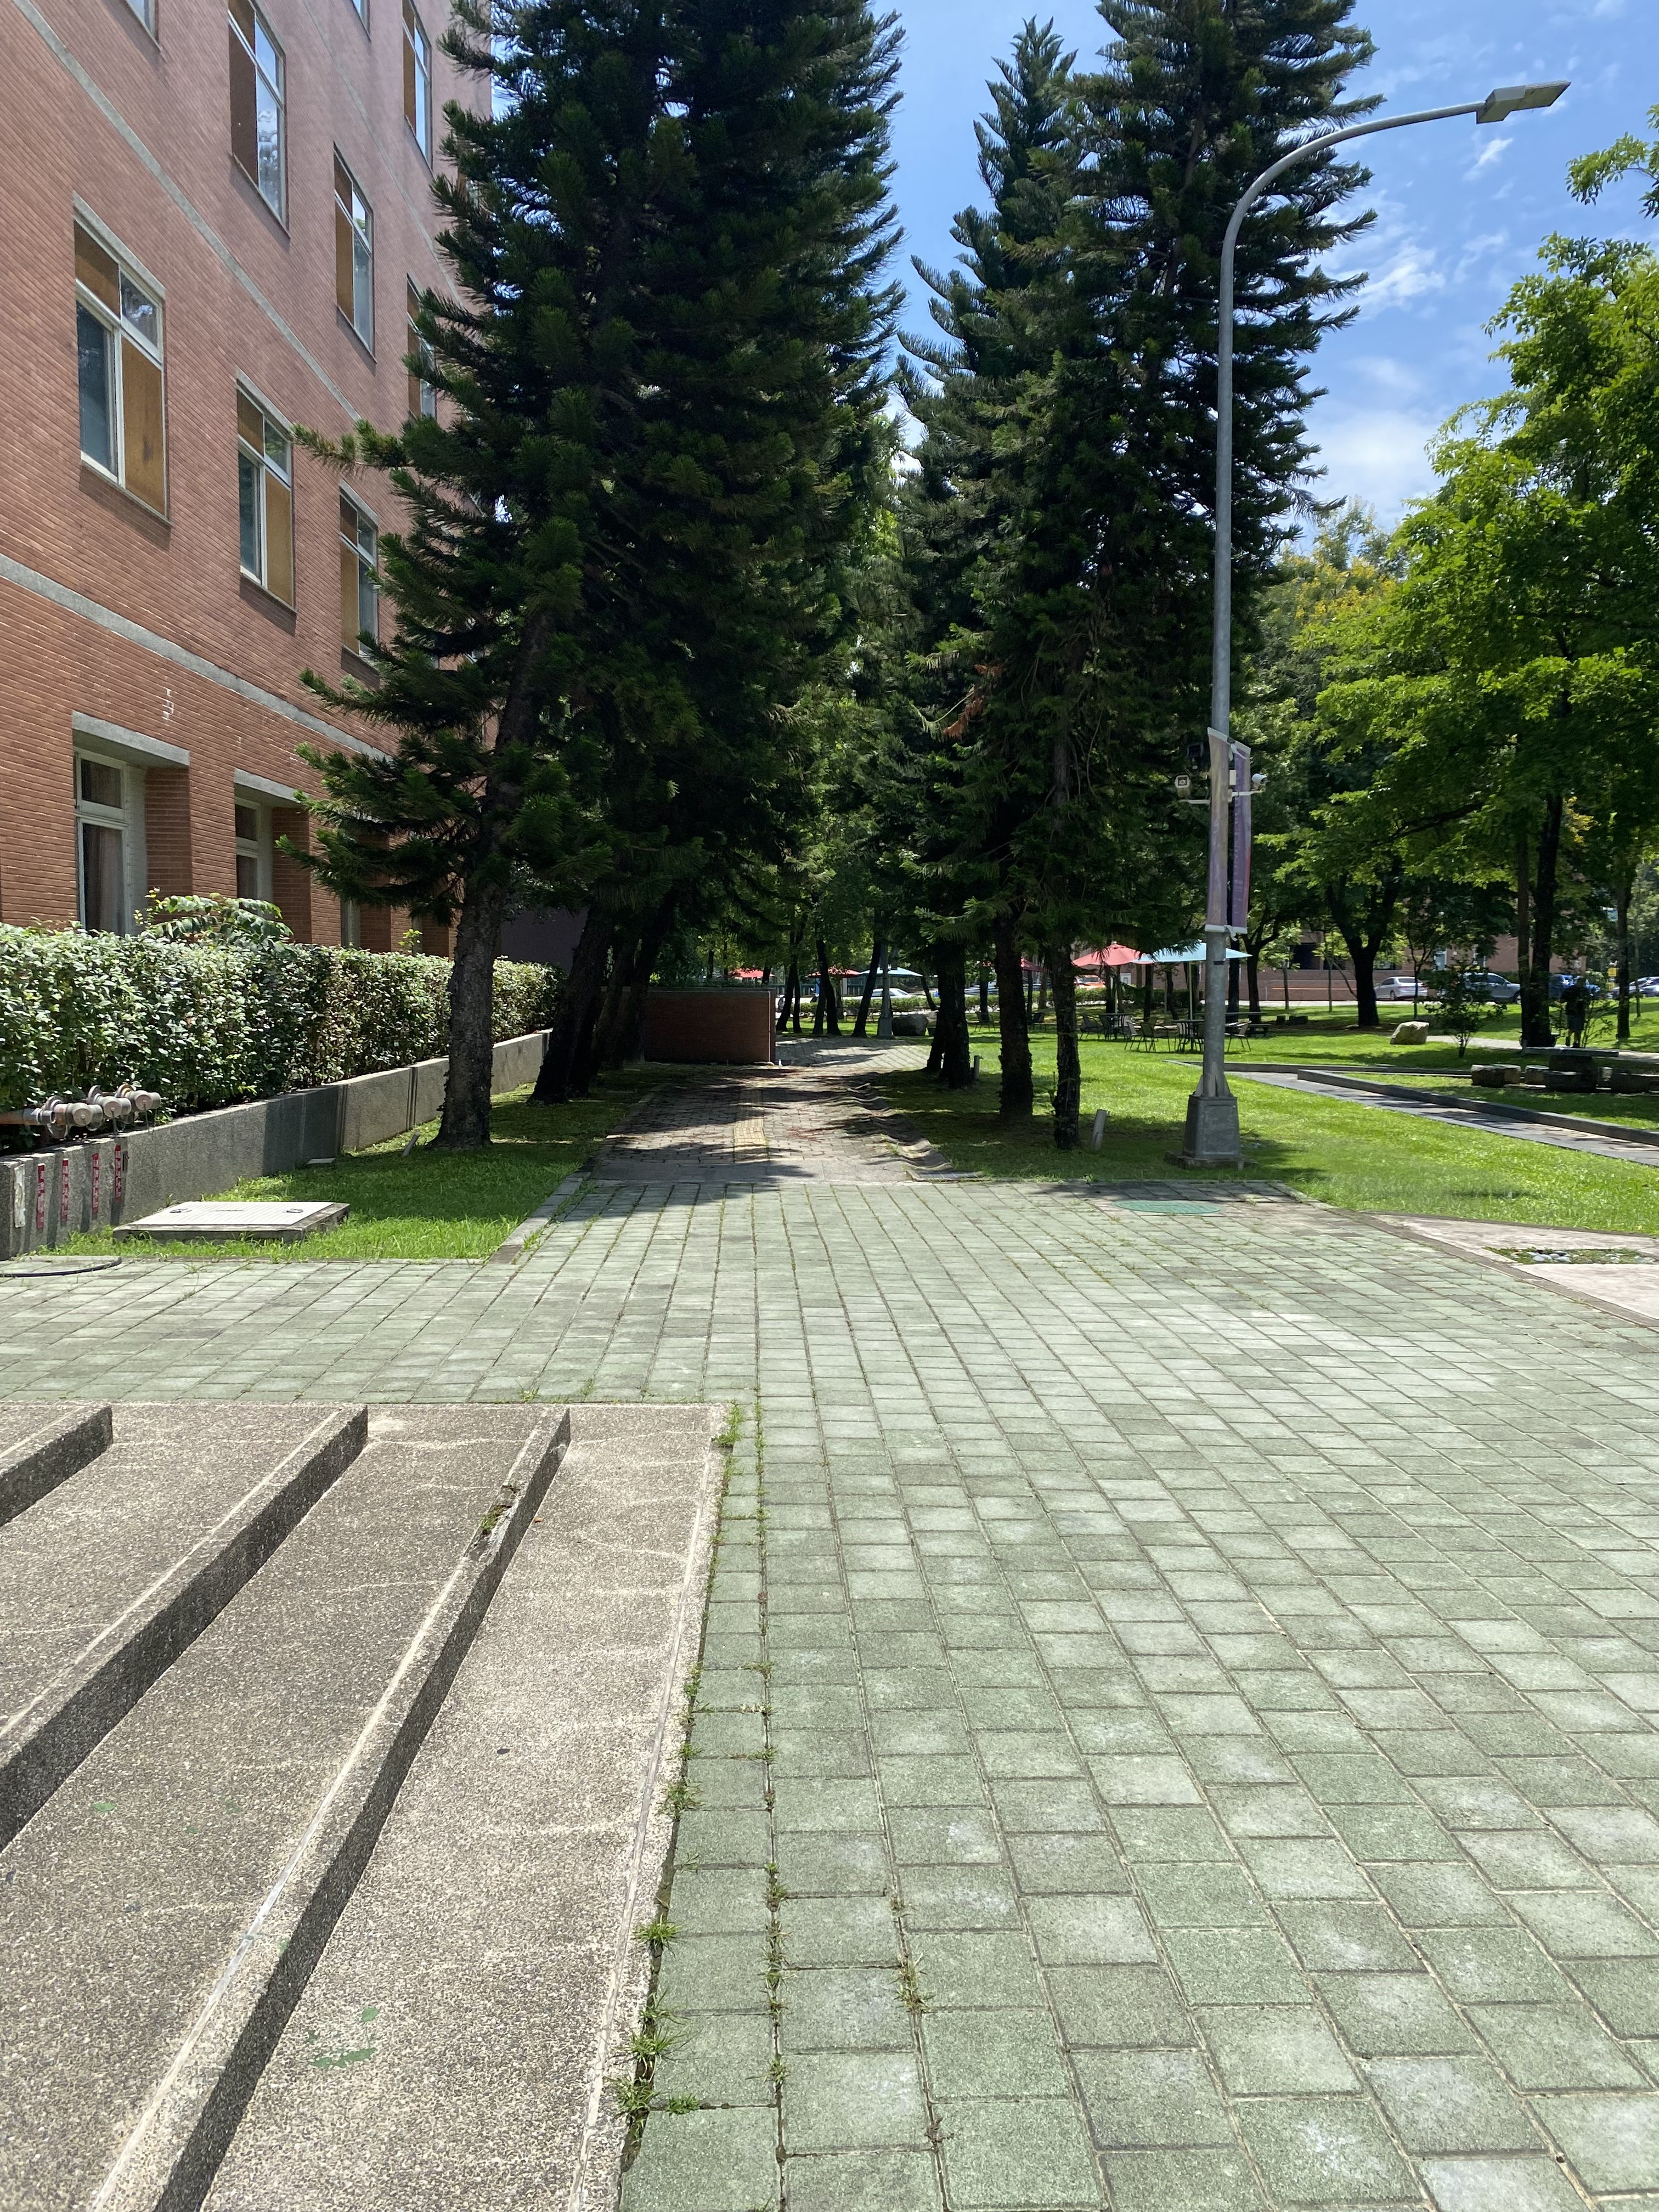sidewalk: (495, 998, 1659, 2212)
